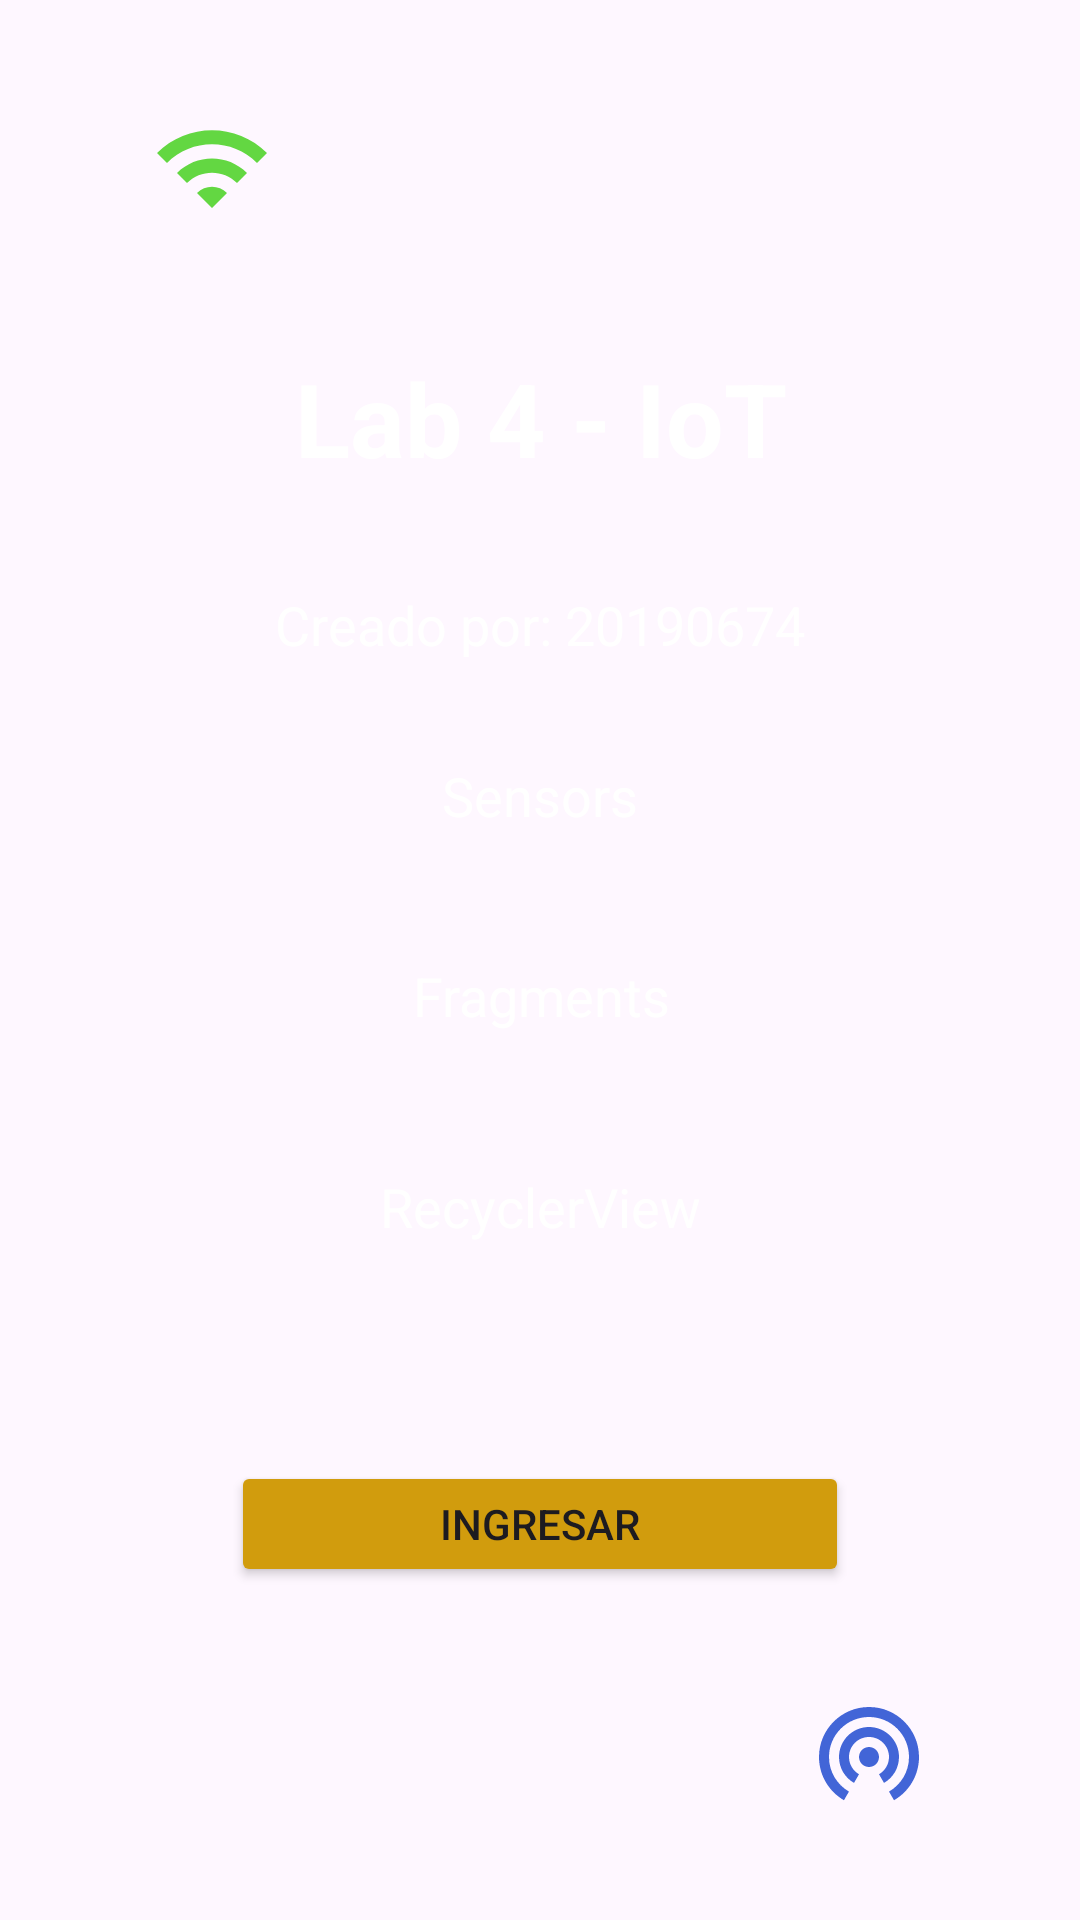

Icons on this 1080 x 1920 Android screen, each with the point to tap as point (x, y):
wifi: point (212, 169)
wifi tethering: point (869, 1753)
